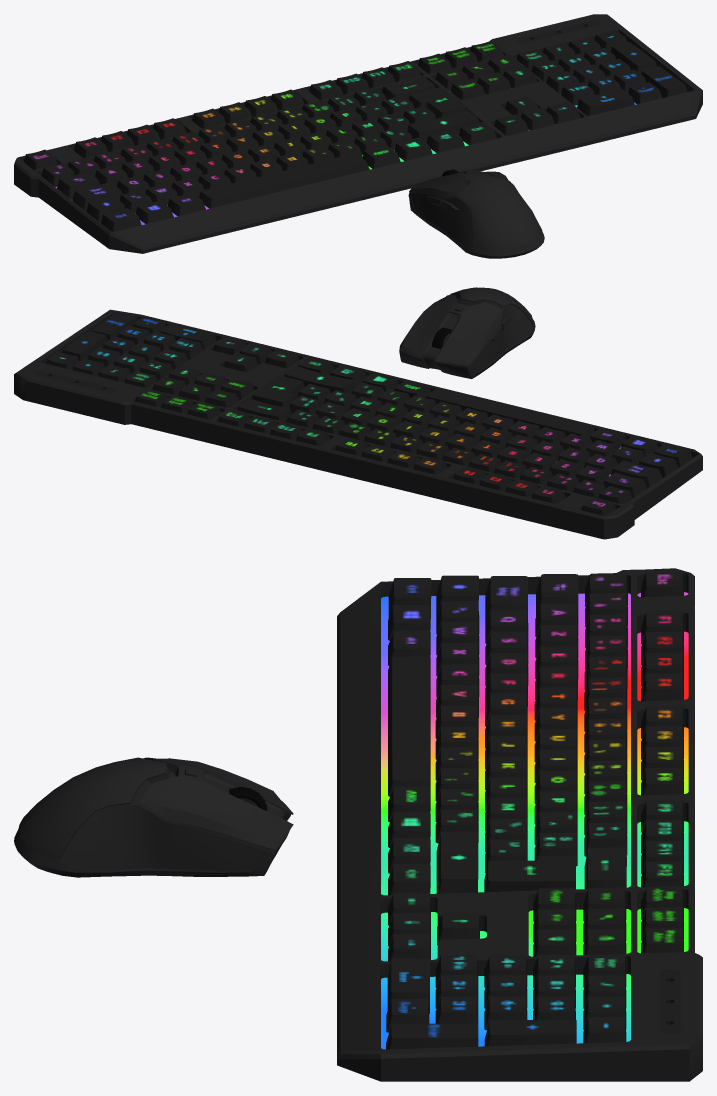
File: rgb_keyboard_and_mouse.glb
3 views of the same model, one above another, from view 1: azimuth 30°, elevation 25°; view 2: azimuth 150°, elevation 25°; view 3: azimuth 270°, elevation 25° (orthographic). The views are drawn at different scales.
Parts seen in each view (by area): view 1: Keyboard, Mouse_under_body; view 2: Keyboard, Mouse_under_body; view 3: Keyboard, Mouse_under_body.
Part boxes in pixels (left/top/right/bottom): Keyboard: left=14, top=14, right=702, bottom=253; Mouse_under_body: left=408, top=170, right=544, bottom=258; Keyboard: left=14, top=309, right=702, bottom=539; Mouse_under_body: left=399, top=287, right=535, bottom=378; Keyboard: left=337, top=568, right=702, bottom=1081; Mouse_under_body: left=14, top=757, right=293, bottom=877.
Bounding box in the file's own units: 1.18 × 0.0937 × 0.7136.
7 materials, 7 textured.
